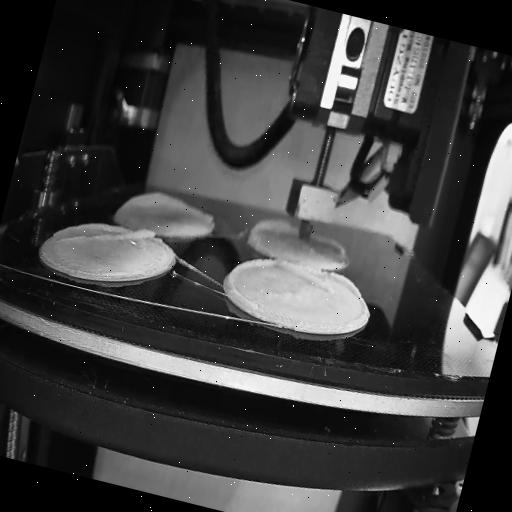over_extrusion: (57, 206, 159, 266), (126, 182, 220, 232), (222, 247, 280, 312), (278, 258, 366, 300), (241, 210, 291, 250)
